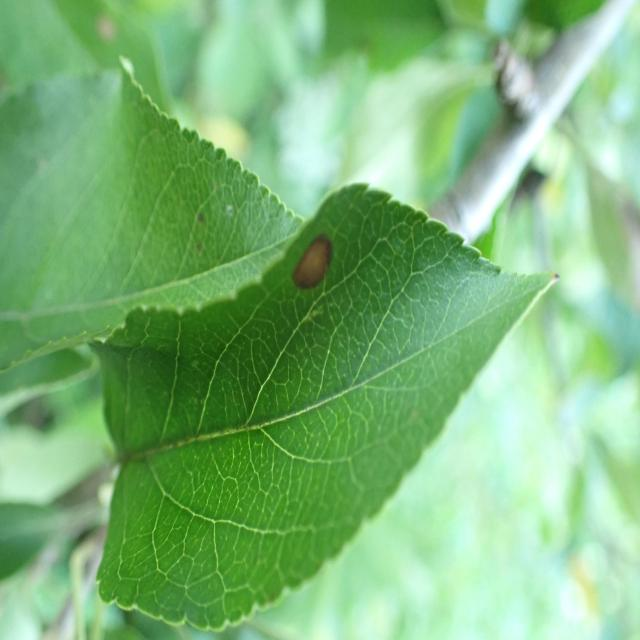Black Rot: (277, 213, 336, 307)
